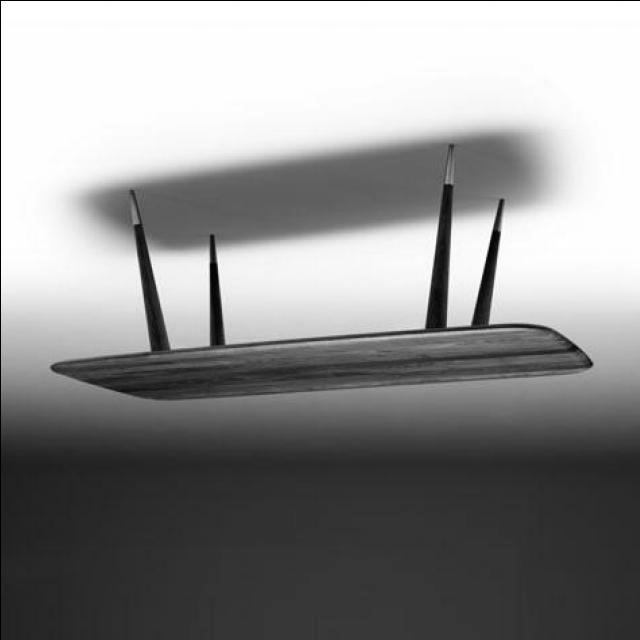table: (49, 140, 591, 401)
